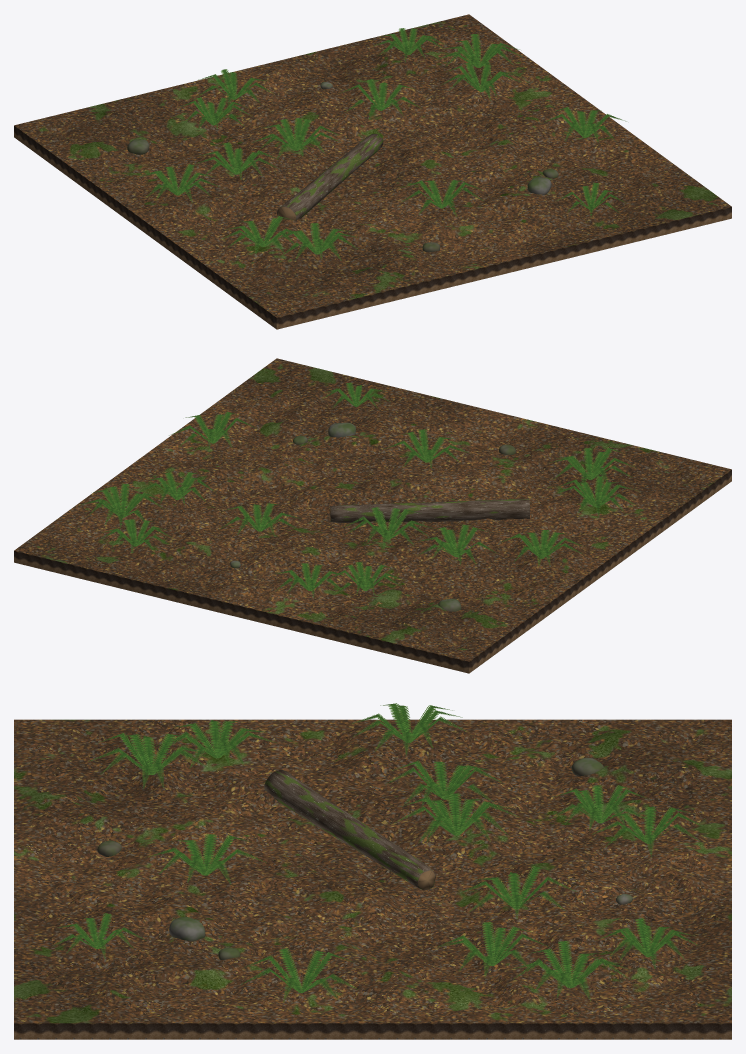
Rendered from forest-floor-patch.glb.
3 renders of one model, top to bottom at view 1: azimuth 30°, elevation 25°; view 2: azimuth 150°, elevation 25°; view 3: azimuth 270°, elevation 25°, orthographic. The views are drawn at different scales.
Parts seen in each view (by area): view 1: Forest floor: leaf litter, needles, twigs and moss, Ferns, Fallen log, Half-buried stones; view 2: Forest floor: leaf litter, needles, twigs and moss, Ferns, Fallen log, Half-buried stones; view 3: Forest floor: leaf litter, needles, twigs and moss, Ferns, Fallen log, Half-buried stones.
Boxes of the visible parts, x1,y1,x2,y2 form: Forest floor: leaf litter, needles, twigs and moss: [14, 14, 731, 329]; Ferns: [138, 28, 626, 260]; Fallen log: [277, 133, 383, 220]; Half-buried stones: [127, 82, 558, 252]; Forest floor: leaf litter, needles, twigs and moss: [14, 358, 731, 673]; Ferns: [79, 382, 636, 597]; Fallen log: [329, 498, 529, 522]; Half-buried stones: [230, 422, 515, 611]; Forest floor: leaf litter, needles, twigs and moss: [14, 719, 731, 1039]; Ferns: [51, 703, 704, 1002]; Fallen log: [264, 769, 435, 890]; Half-buried stones: [97, 757, 632, 959].
Size of the model in its own units: 12 by 1.04 by 12.
Materials: 5 (5 with a texture image).
